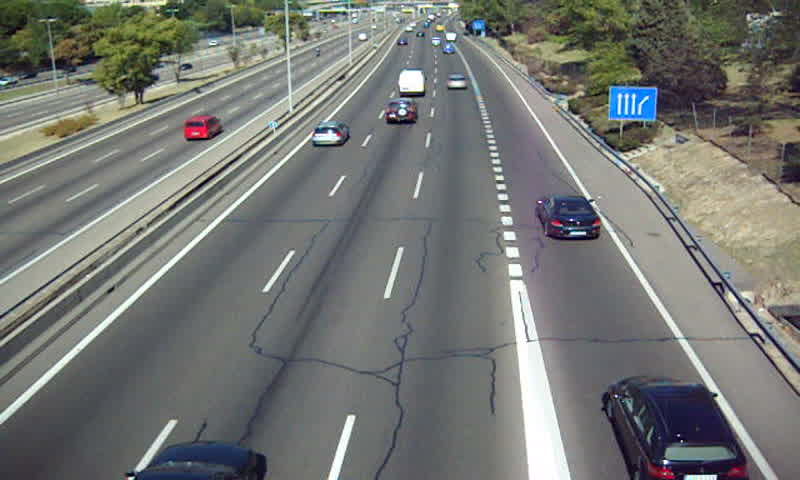car: (608, 377, 747, 480), (538, 196, 602, 239), (312, 120, 348, 146), (385, 97, 418, 124), (445, 74, 469, 91)
van: (397, 70, 426, 95)
